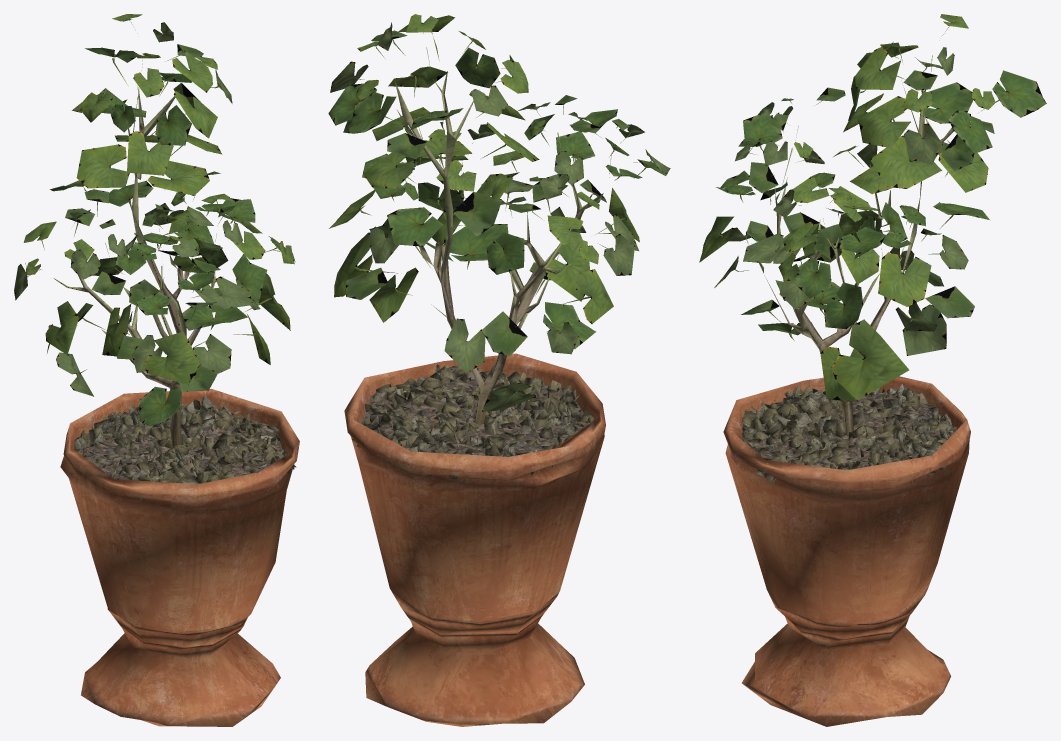
The model's file is potted_plant_01.glb.
3 renders of one model, left to right at view 1: azimuth 30°, elevation 25°; view 2: azimuth 150°, elevation 25°; view 3: azimuth 270°, elevation 25°, orthographic. The views are drawn at different scales.
Visible parts, largest first — view 1: potted_plant_01_pot, potted_plant_01_leaves, potted_plant_01_pebbles, potted_plant_01_stem; view 2: potted_plant_01_pot, potted_plant_01_leaves, potted_plant_01_pebbles, potted_plant_01_stem; view 3: potted_plant_01_pot, potted_plant_01_leaves, potted_plant_01_pebbles, potted_plant_01_stem.
Part boxes in pixels (x1,y1,x2,y2): potted_plant_01_pot: (60,389,299,726); potted_plant_01_leaves: (14,14,295,426); potted_plant_01_pebbles: (74,395,296,499); potted_plant_01_stem: (54,53,223,447); potted_plant_01_pot: (344,353,605,726); potted_plant_01_leaves: (328,14,670,411); potted_plant_01_pebbles: (352,364,593,480); potted_plant_01_stem: (395,47,611,424); potted_plant_01_pot: (723,376,970,726); potted_plant_01_leaves: (699,14,1046,401); potted_plant_01_pebbles: (742,384,956,483); potted_plant_01_stem: (759,55,965,436).
Size of the model in its own units: 0.5846 by 1.33 by 0.6336.
2 materials, 2 textured.
